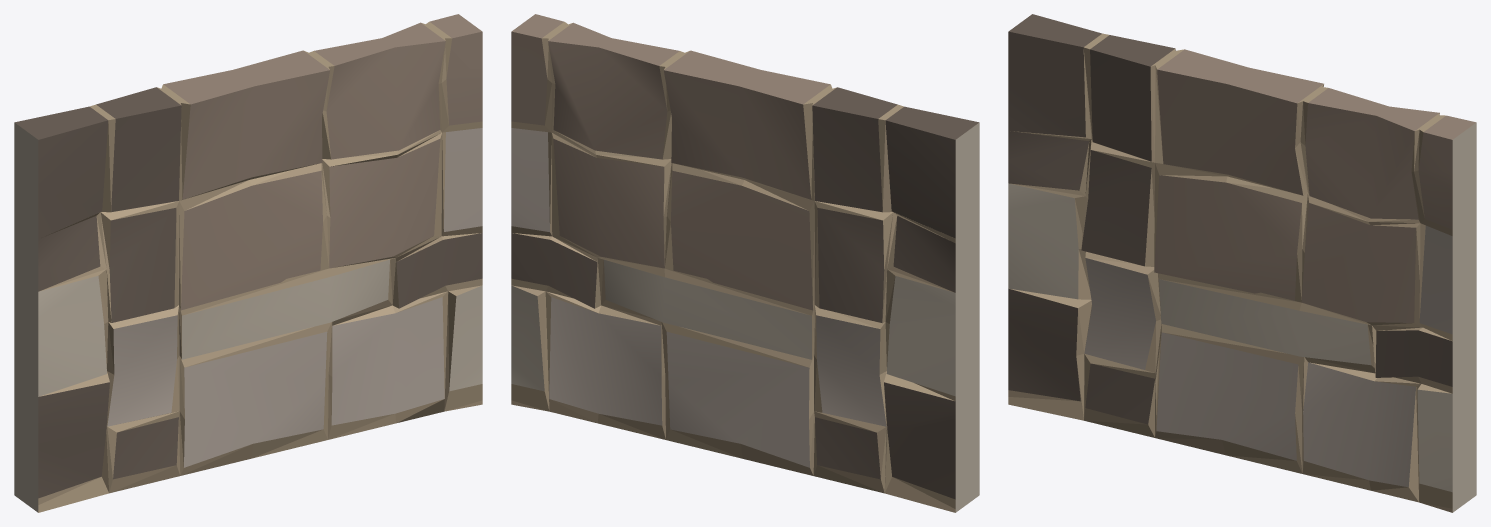
File: RG-Dungeon_Wall-05.fbx
The picture shows the model from 3 angles, left to right: view 1: azimuth 30°, elevation 25°; view 2: azimuth 150°, elevation 25°; view 3: azimuth 330°, elevation 25°; orthographic projection.
Parts seen in each view (by area): view 1: RG-Dungeon_Wall-05; view 2: RG-Dungeon_Wall-05; view 3: RG-Dungeon_Wall-05.
Boxes of the visible parts, <box> form: RG-Dungeon_Wall-05: <box>14,14,482,512</box>; RG-Dungeon_Wall-05: <box>511,14,979,512</box>; RG-Dungeon_Wall-05: <box>1008,14,1476,512</box>.
Bounding box in the file's own units: 20 × 16.05 × 2.56.
